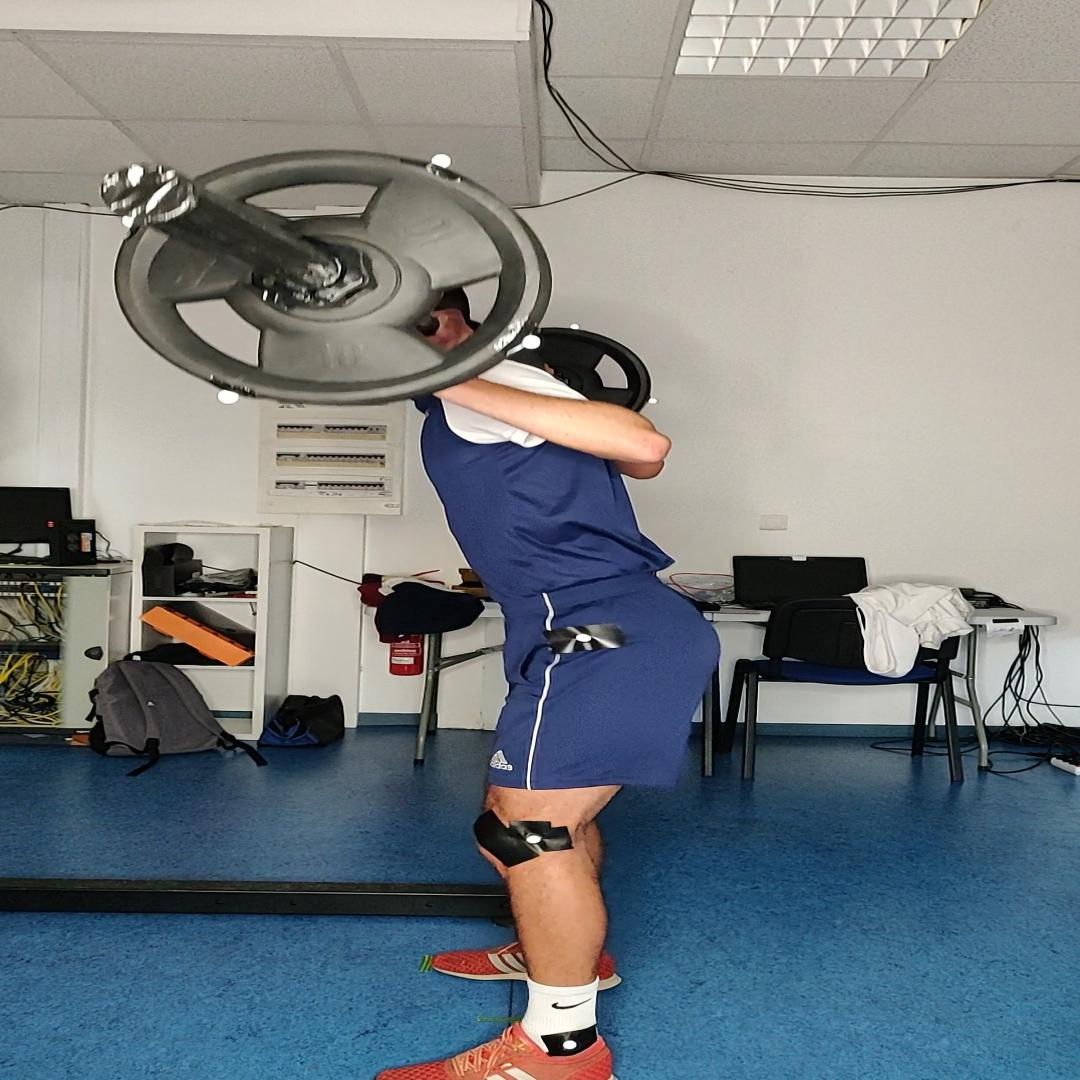Bar: (101, 163, 196, 225)
Barbell: (115, 150, 552, 406)
